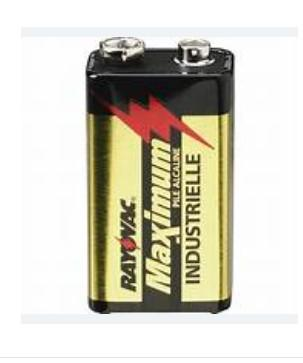9V Battery: (86, 36, 235, 316)
